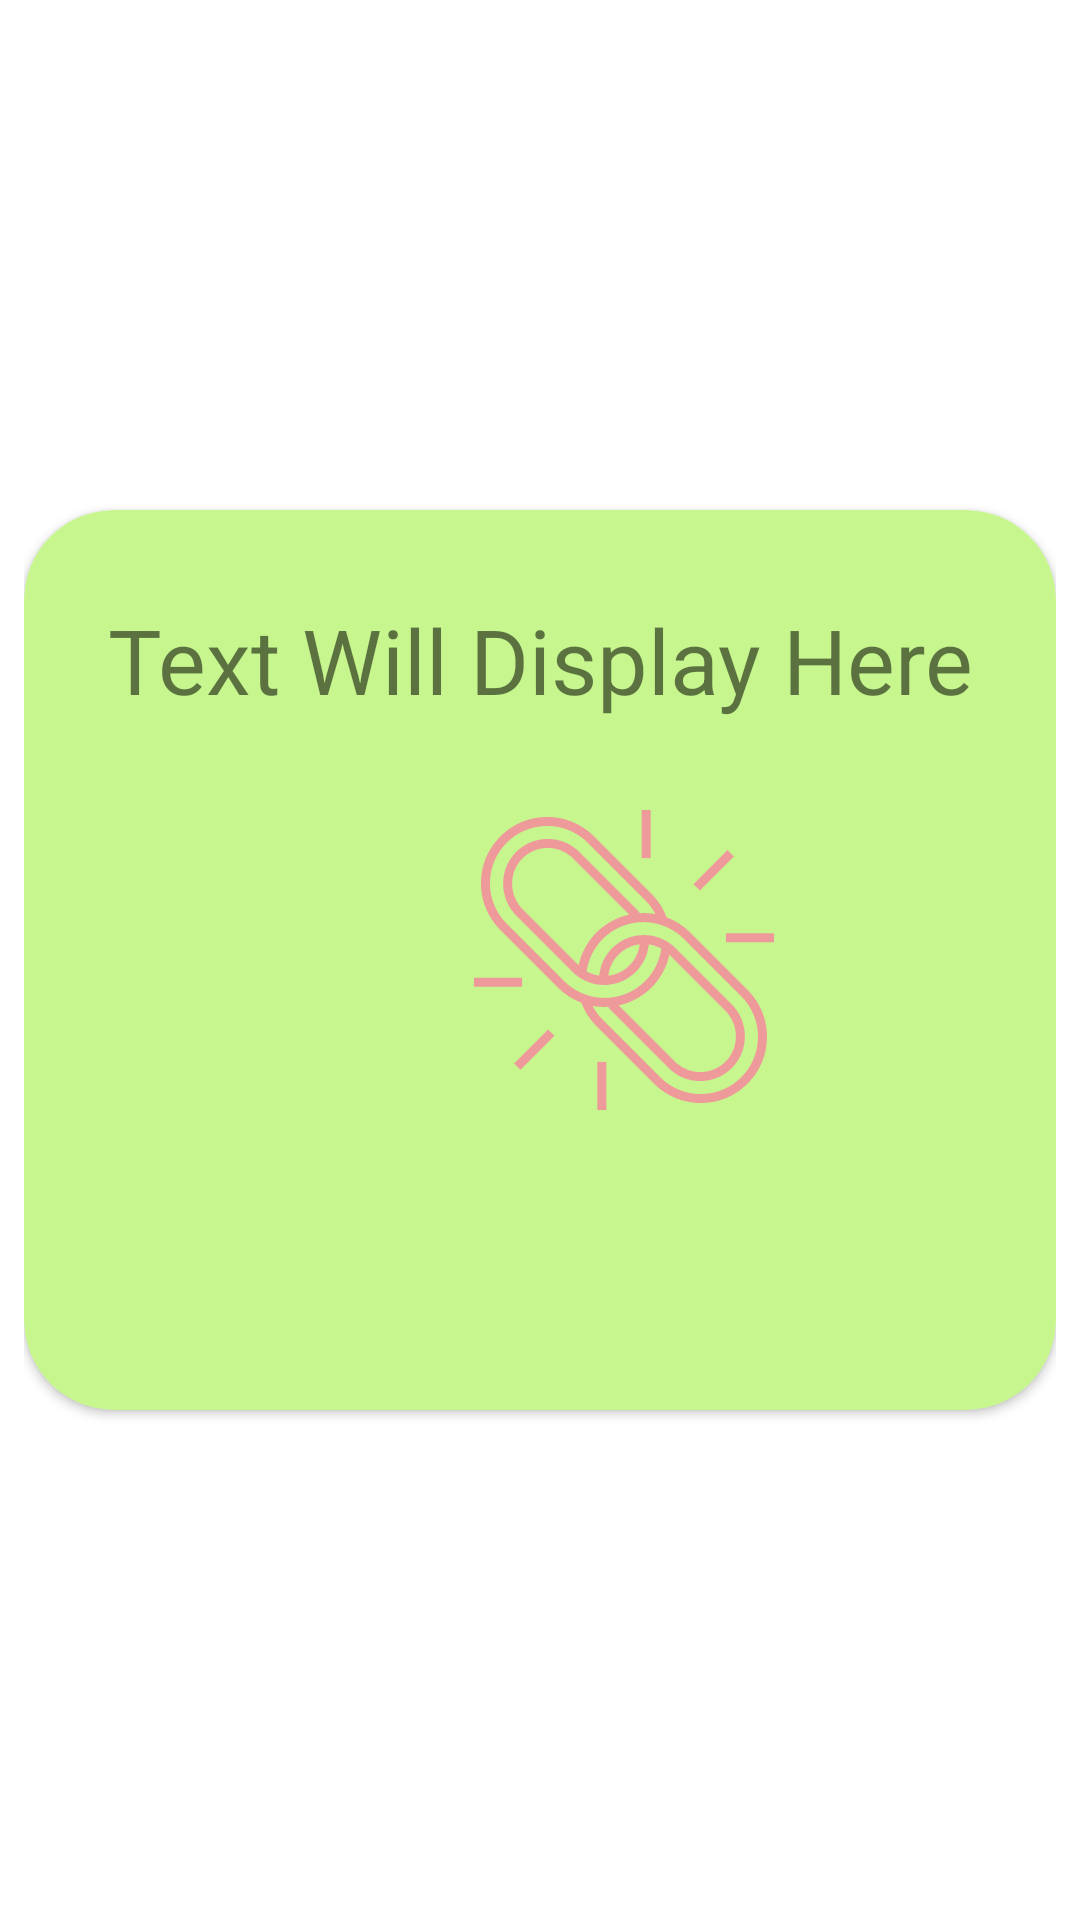

Icon click points for this 1080 × 1920 phone screenshot, format (x=x, y=y):
link: (x=624, y=960)
